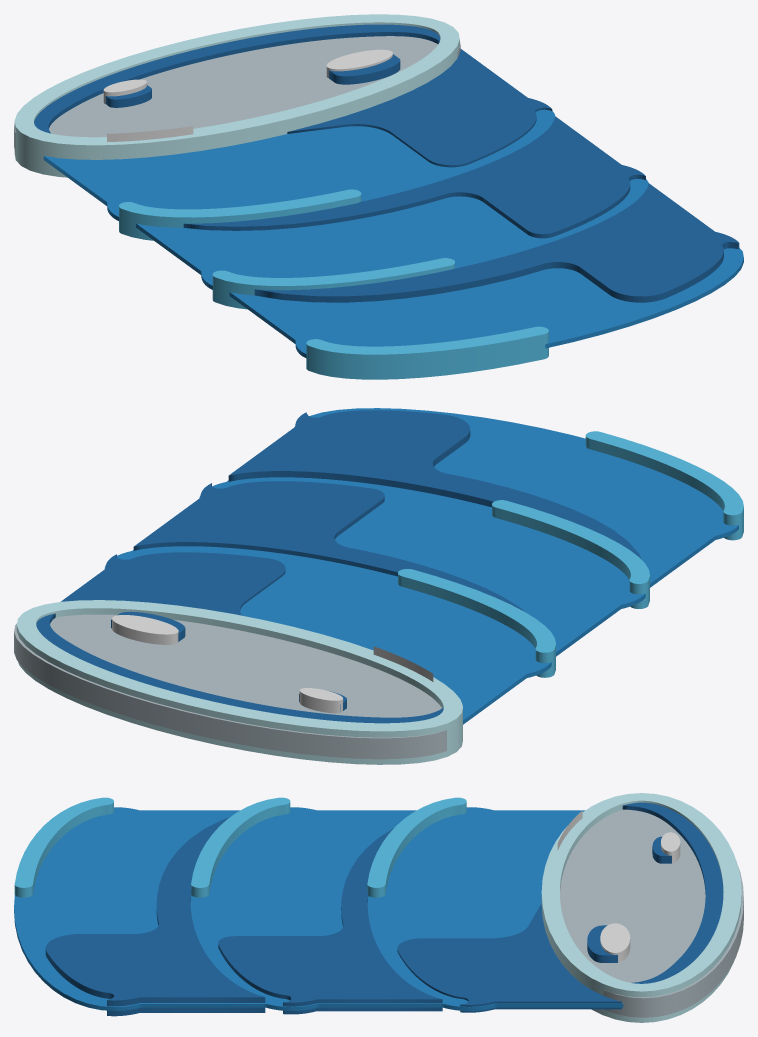
File: emoji_u1f6e2.glb
3 renders of one model, top to bottom at view 1: azimuth 30°, elevation 25°; view 2: azimuth 150°, elevation 25°; view 3: azimuth 270°, elevation 25°, orthographic. The views are drawn at different scales.
Parts seen in each view (by area): view 1: emoji_u1f6e2; view 2: emoji_u1f6e2; view 3: emoji_u1f6e2.
Part boxes in pixels (left/top/right/bottom): emoji_u1f6e2: left=14, top=14, right=743, bottom=379; emoji_u1f6e2: left=14, top=408, right=743, bottom=764; emoji_u1f6e2: left=14, top=793, right=743, bottom=1022.
Size of the model in its own units: 0.0219 by 0.0024 by 0.0337.
